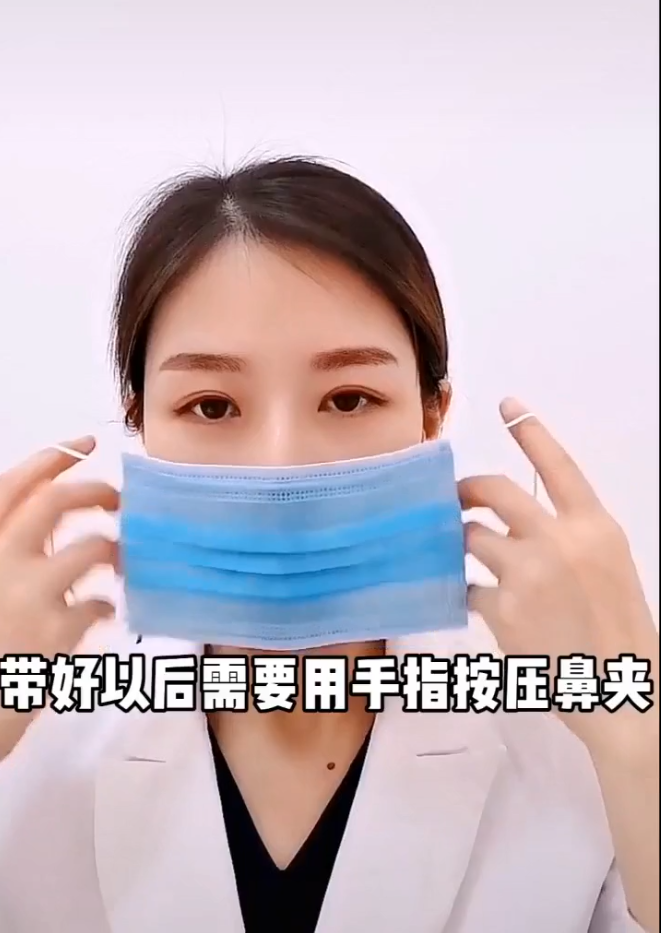face_mask: (141, 249, 427, 639)
